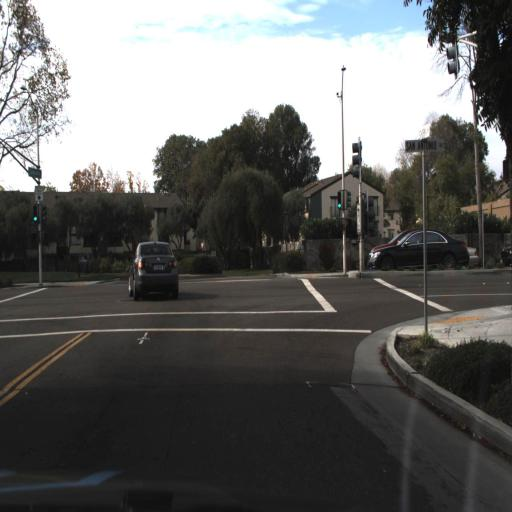car: (363, 223, 475, 287), (327, 227, 399, 287), (126, 236, 181, 313)
trafficLight-Green: (28, 201, 38, 228), (335, 188, 343, 211)
